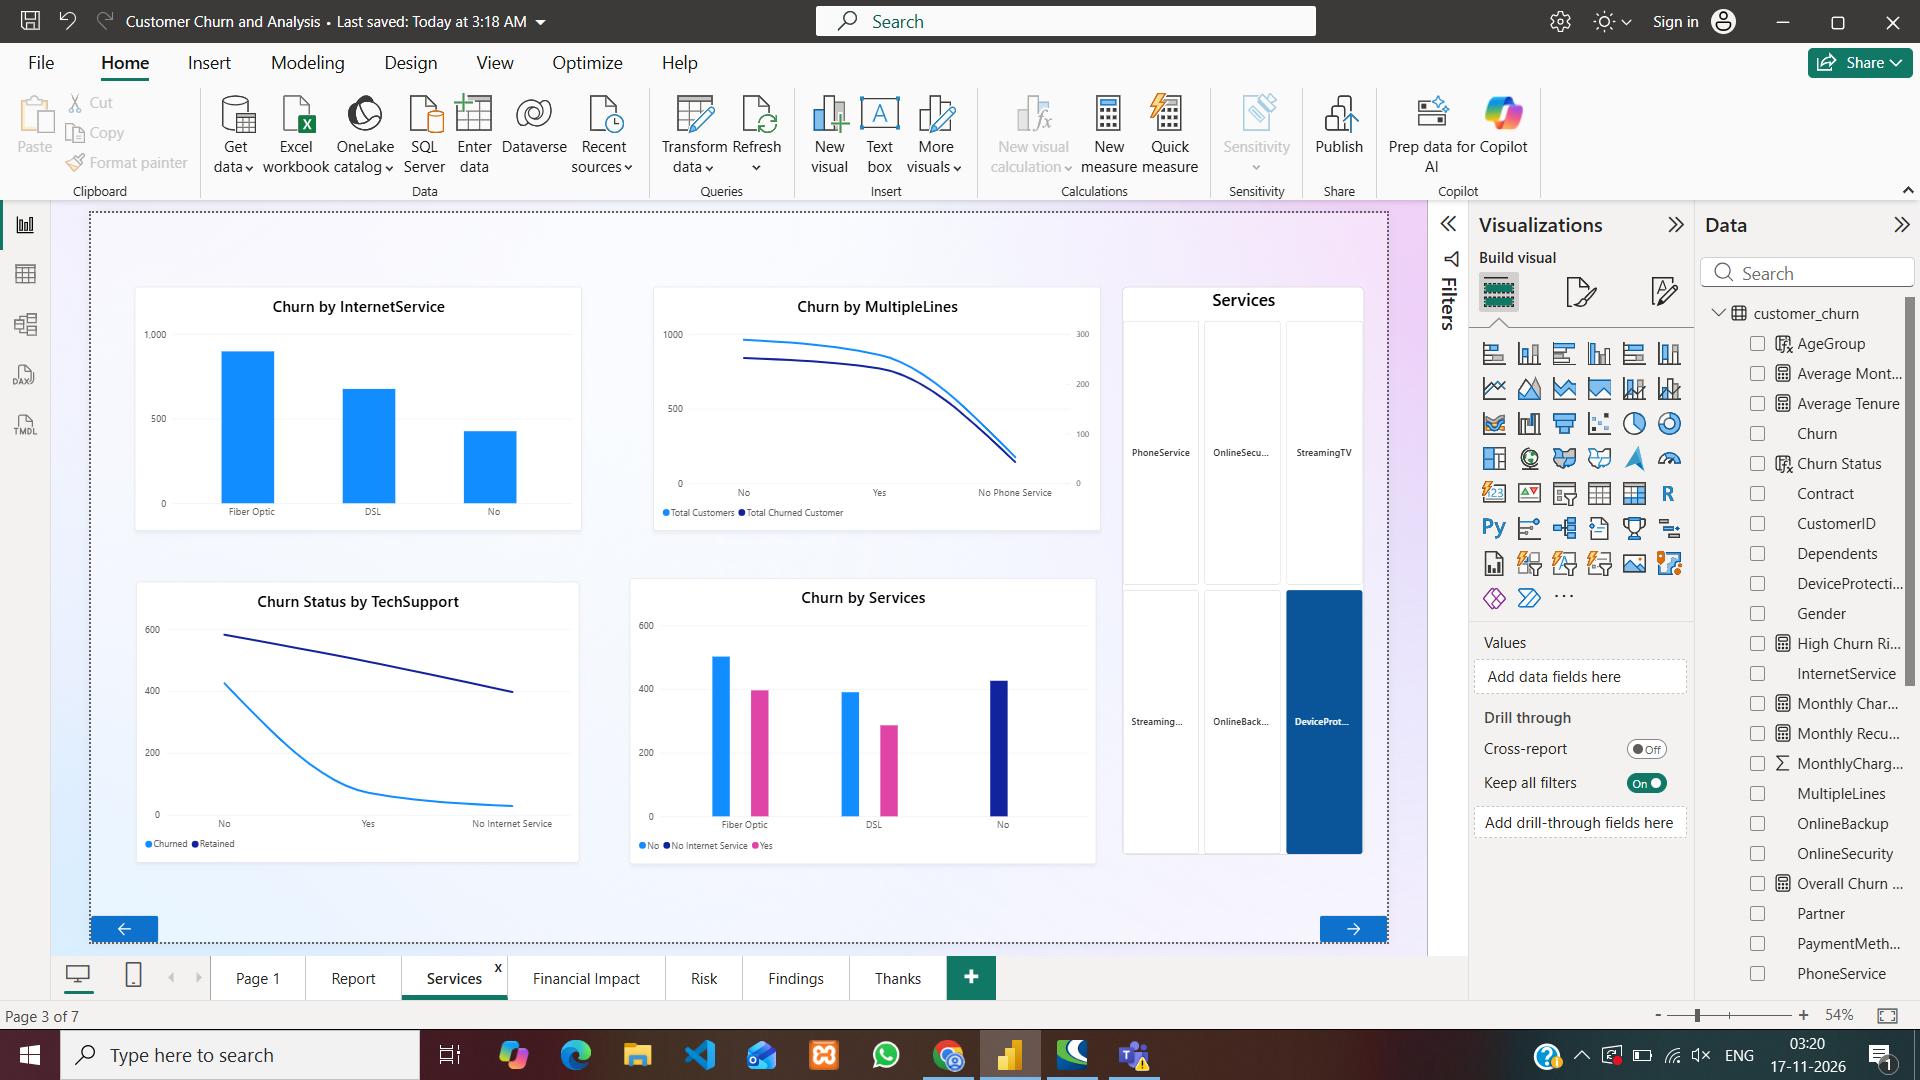

This screenshot's page, from the dashboard's own definition file:
{"tool":"powerbi","page":{"name":"Services","canvas":[1920,1080],"ordinal":2},"visuals":[{"type":"clusteredColumnChart","title":"Churn by Services","fields":{"Category":["customer_churn.InternetService"],"Series":["customer_churn.DeviceProtection"],"Y":["CountNonNull(customer_churn.CustomerID)"]},"box":[798.2,540,690.9,423.6],"z":0},{"type":"lineChart","title":"Churn Status by TechSupport","fields":{"Category":["customer_churn.TechSupport"],"Series":["customer_churn.Churn Status"],"Y":["customer_churn.Total Customers"]},"box":[67,546.5,656.9,416.2],"z":1000},{"type":"clusteredColumnChart","title":"Churn by InternetService","fields":{"Category":["customer_churn.InternetService"],"Y":["CountNonNull(customer_churn.Churn)"]},"box":[65.1,108.6,662.3,361.9],"z":2000},{"type":"advancedSlicerVisual","title":"Services","fields":{"Values":["service.service"]},"box":[1527.3,109.1,358.2,841.8],"z":3000},{"type":"lineChart","title":"Churn by MultipleLines","fields":{"Category":["customer_churn.MultipleLines"],"Y":["customer_churn.Total Customers"],"Y2":["customer_churn.Total Churned Customer"]},"box":[832.4,108.6,662.3,361.9],"z":4000},{"type":"actionButton","box":[1820.5,1040.6,100,40],"z":5000},{"type":"actionButton","box":[0,1040.6,100,40],"z":6000}]}

Visuals, with their boxes on the page's 1920x1080 design canvas (x1, y1, x2, y2). These are canvas units, not pixel positions in the 1920x1080 screenshot, which may show the page scaled, cropped or inside an application window:
"Churn by Services" clusteredColumnChart: x1=798, y1=540, x2=1489, y2=964
"Churn Status by TechSupport" lineChart: x1=67, y1=546, x2=724, y2=963
"Churn by InternetService" clusteredColumnChart: x1=65, y1=109, x2=727, y2=470
"Services" advancedSlicerVisual: x1=1527, y1=109, x2=1886, y2=951
"Churn by MultipleLines" lineChart: x1=832, y1=109, x2=1495, y2=470
actionButton: x1=1820, y1=1041, x2=1920, y2=1081
actionButton: x1=0, y1=1041, x2=100, y2=1081
